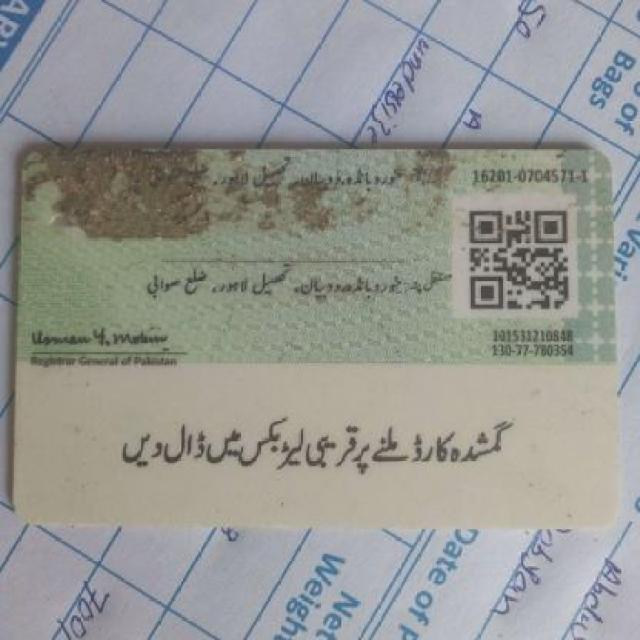Back: (12, 141, 631, 534)
